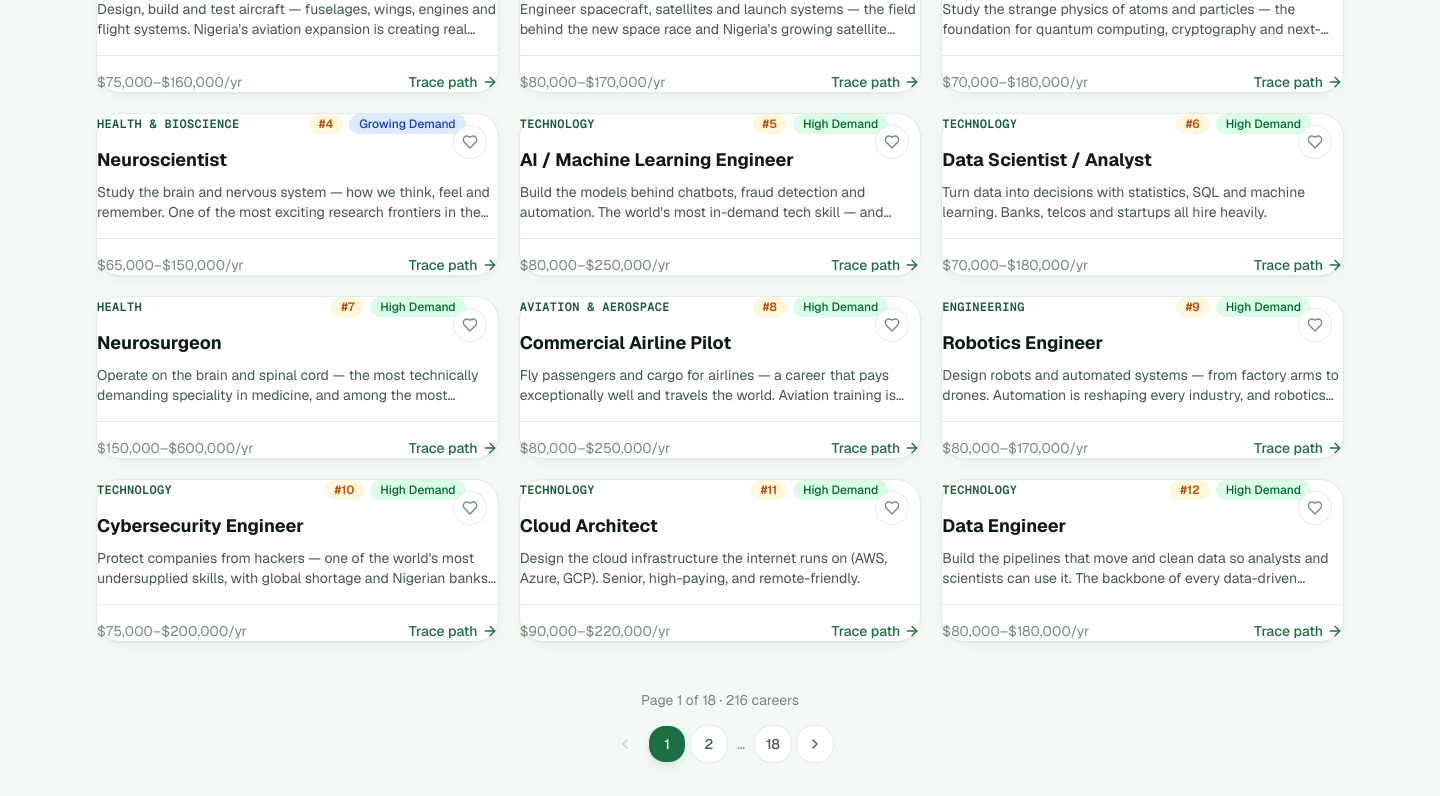
it: CareersExplorer › filters careers by stream tab and resets to page 1
(page scrolled)
Click the button named "Next page". click: (815, 744)
box: [797, 726, 833, 762]
(page scrolled)
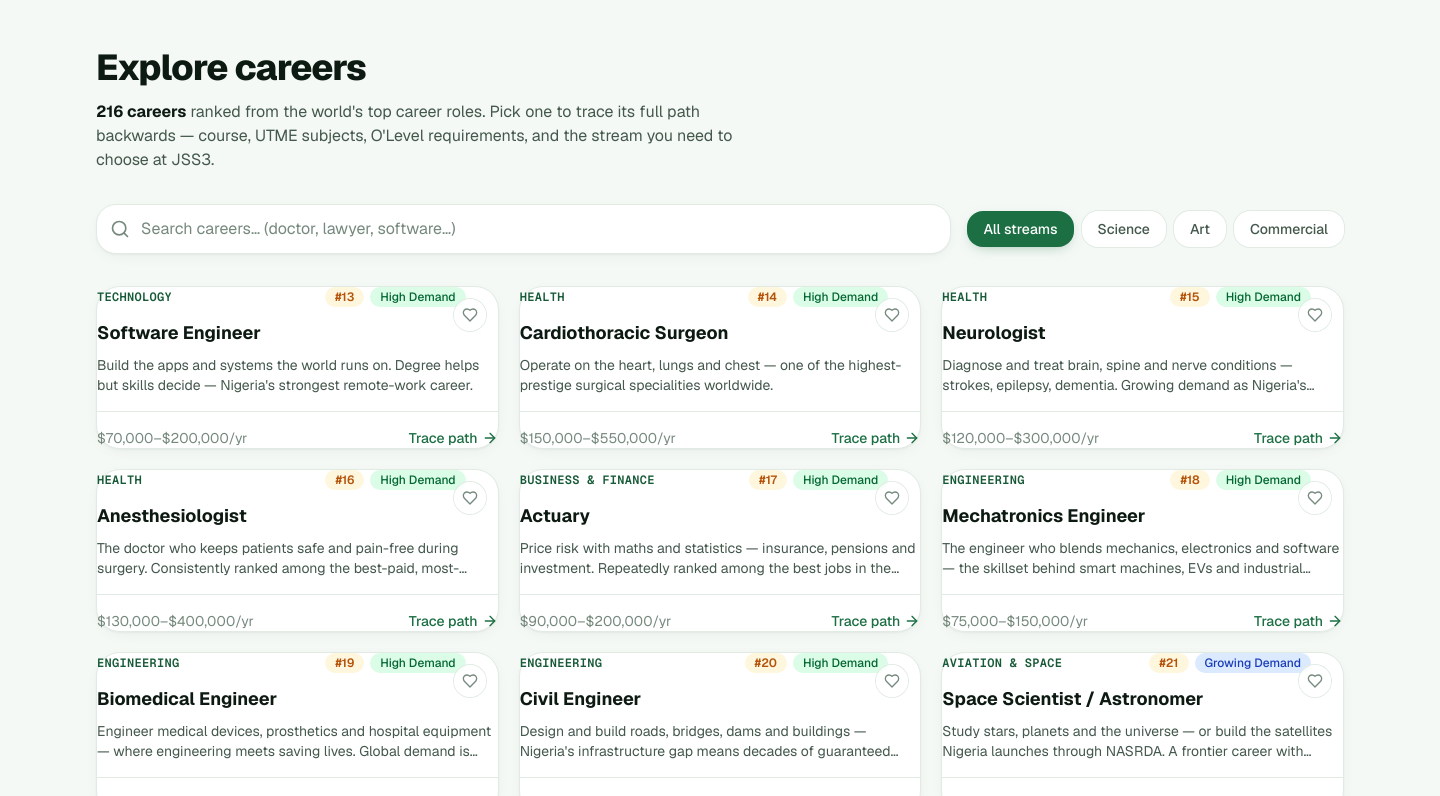
Click the button "Art". click: (1200, 229)
box: [1174, 211, 1226, 247]
(page scrolled)
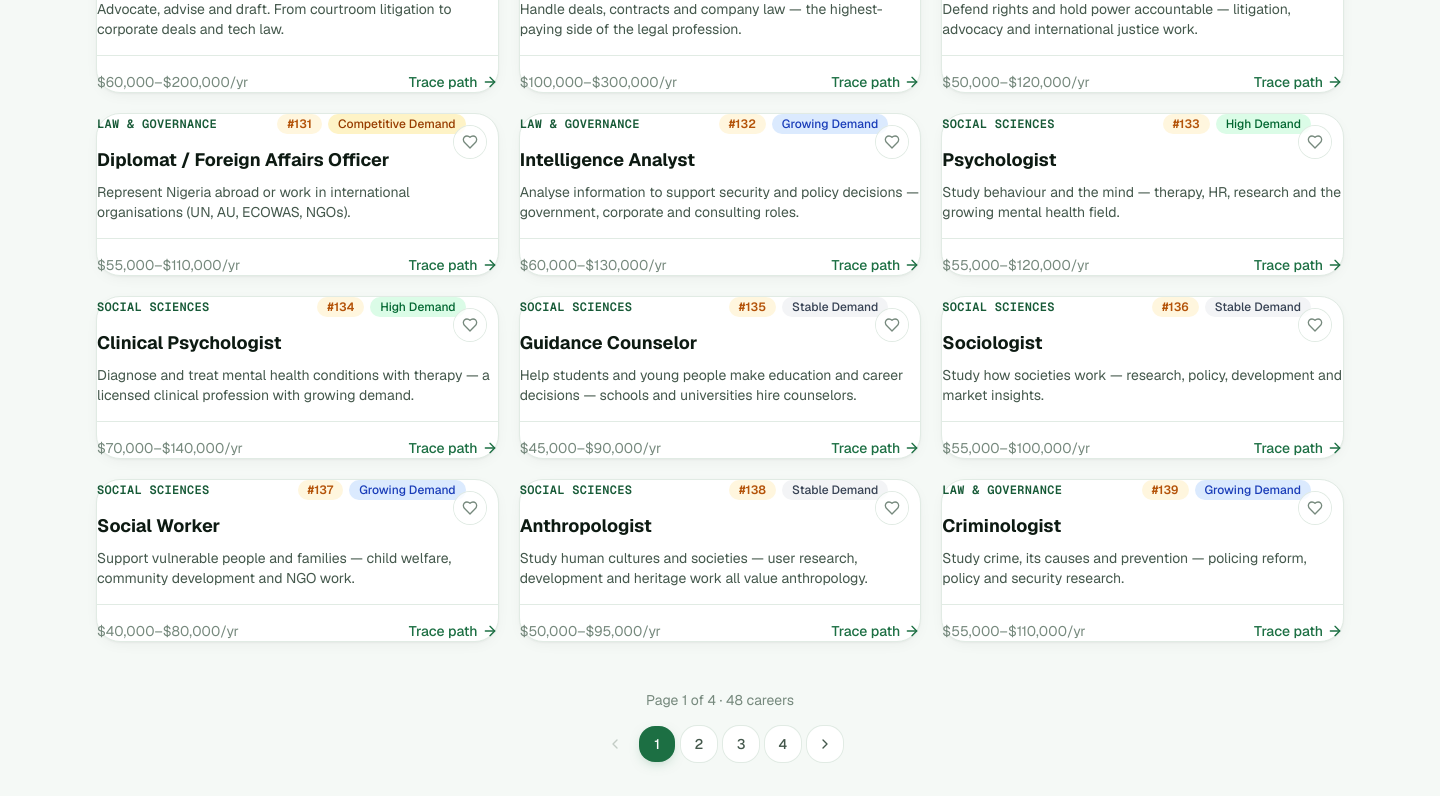
Expected: the text "Page 1 of 4 · 48 careers" is shown, [646, 690, 794, 710]
